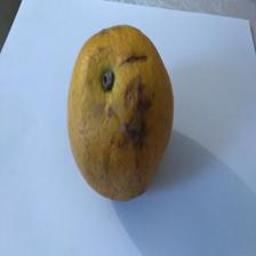Orange Semirotten: (66, 20, 180, 205)
